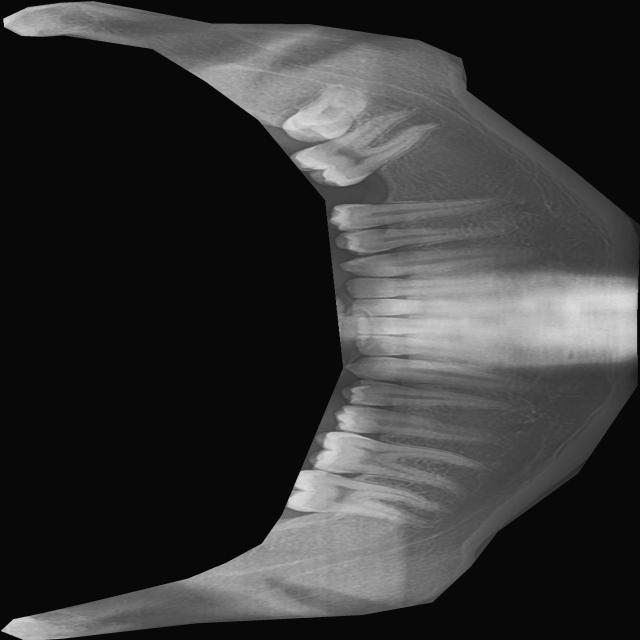mandibula: (1, 0, 640, 640)
